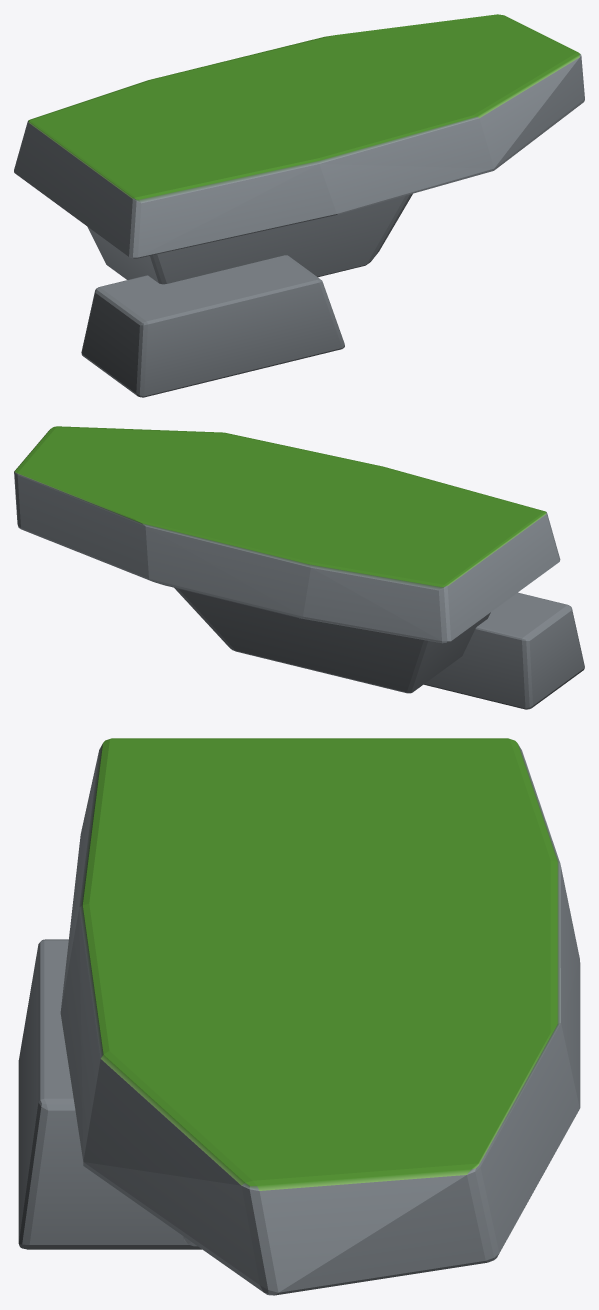
File: Rock_Platform_Wide_01.fbx
3 views of the same model, one above another, from view 1: azimuth 30°, elevation 25°; view 2: azimuth 150°, elevation 25°; view 3: azimuth 270°, elevation 25° (orthographic). The views are drawn at different scales.
Visible parts, largest first — view 1: Rock_Platform_Wide_01; view 2: Rock_Platform_Wide_01; view 3: Rock_Platform_Wide_01.
Boxes of the visible parts, x1,y1,x2,y2 form: Rock_Platform_Wide_01: (14,14,584,397); Rock_Platform_Wide_01: (14,426,584,709); Rock_Platform_Wide_01: (18,738,580,1295).
Bounding box in the file's own units: 538 × 180 × 269.
